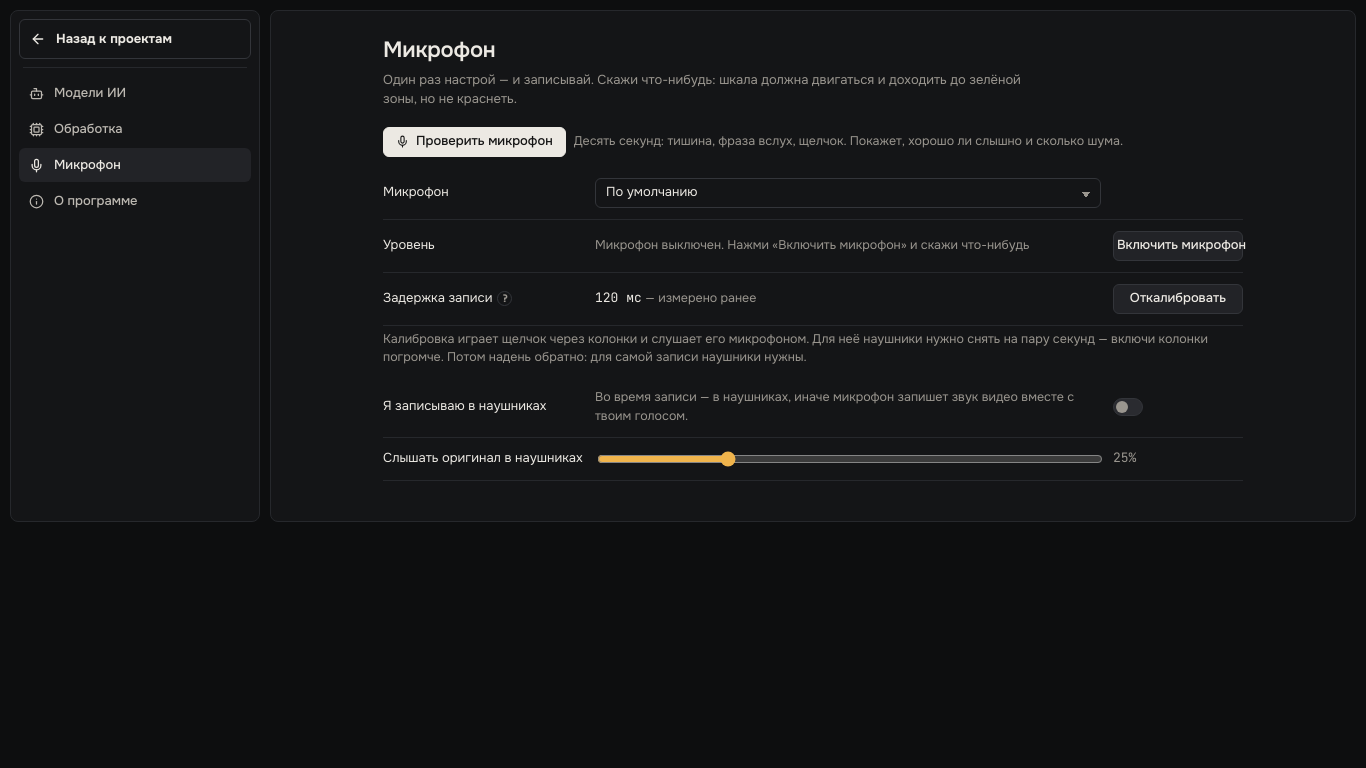
Test: Настройки → Модели ИИ: подписки через программу › микрофон: кнопка «Проверить микрофон» открывает мастер
Step 1. Click the button with test id "mic-check-open" → (474, 142), box [383,127,566,157]
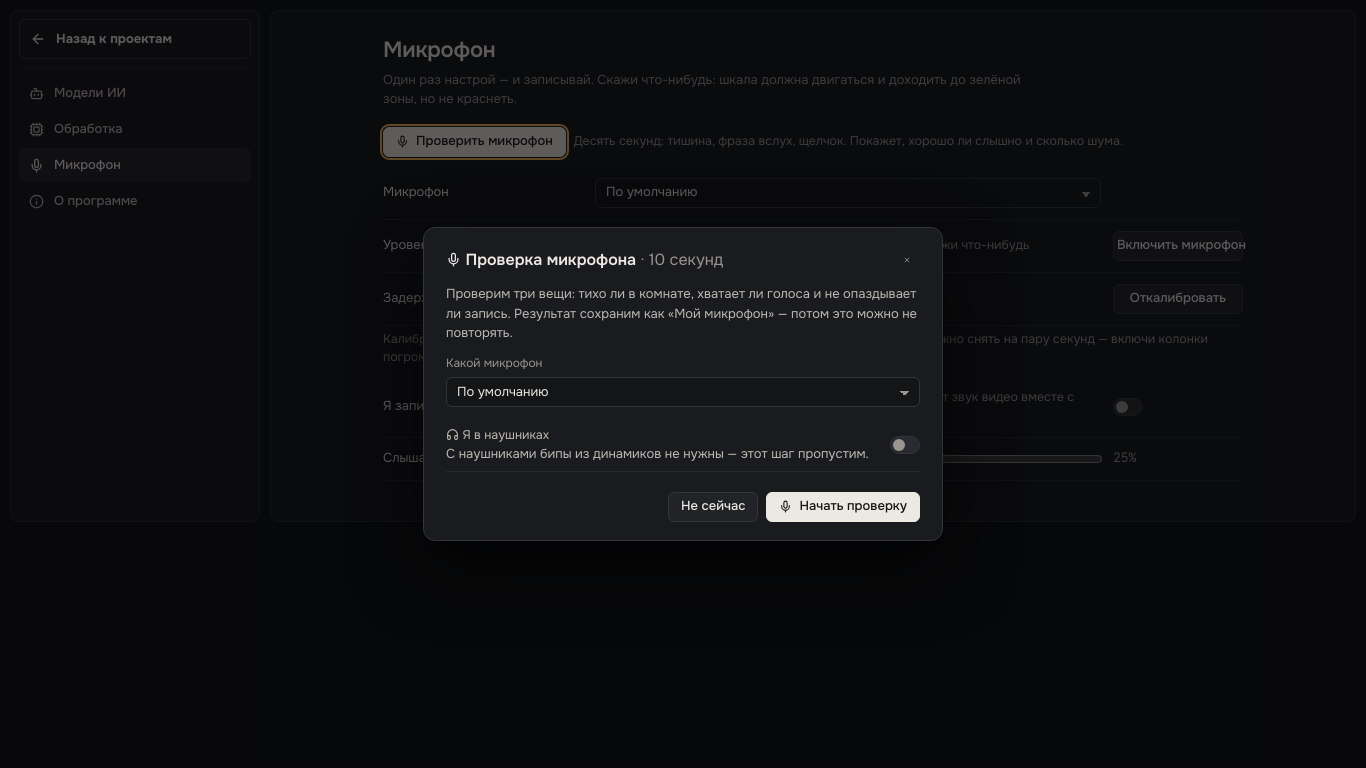
Now the dialog is shown, box [423,227,943,541]
